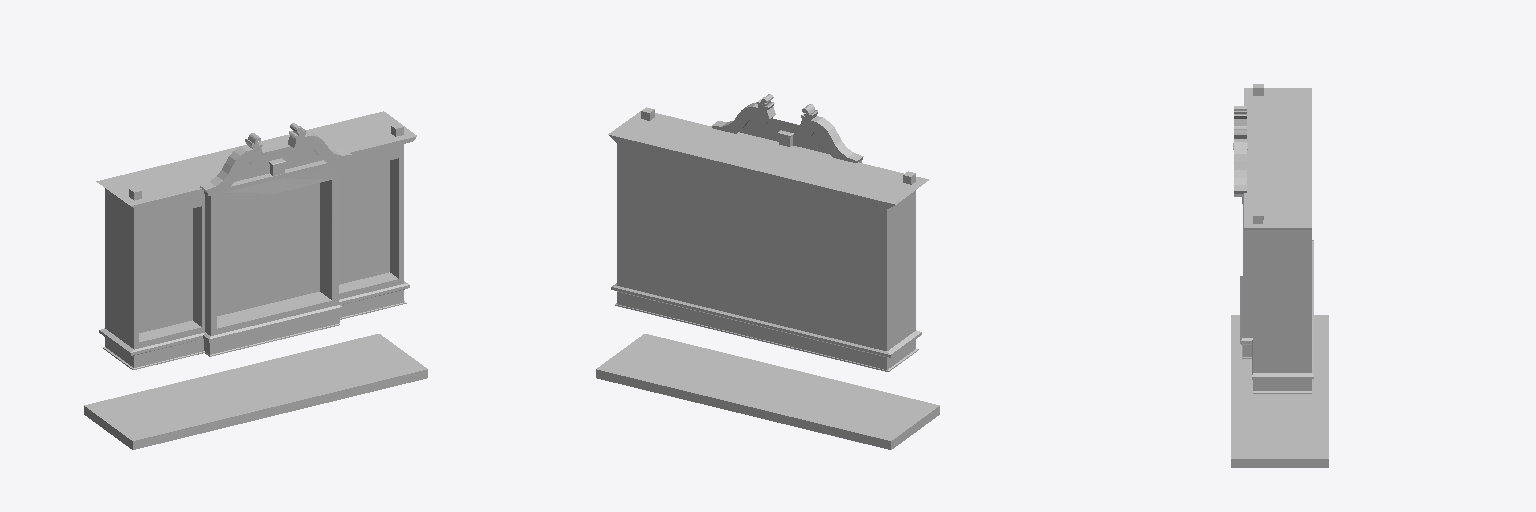
The model's file is cabinetBody.obj.
3 renders of one model, left to right at view 1: azimuth 30°, elevation 25°; view 2: azimuth 150°, elevation 25°; view 3: azimuth 270°, elevation 25°, orthographic.
Bounding box in the file's own units: 18.64 × 16.92 × 5.35.